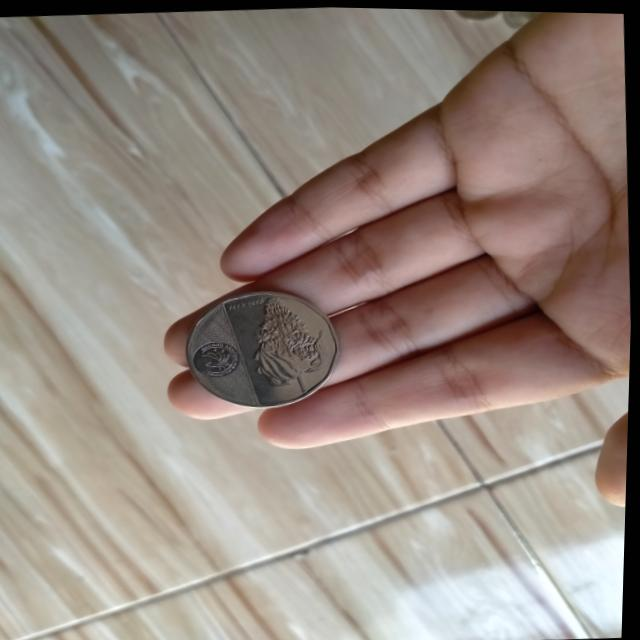10_New_Back: (236, 283, 340, 402)
